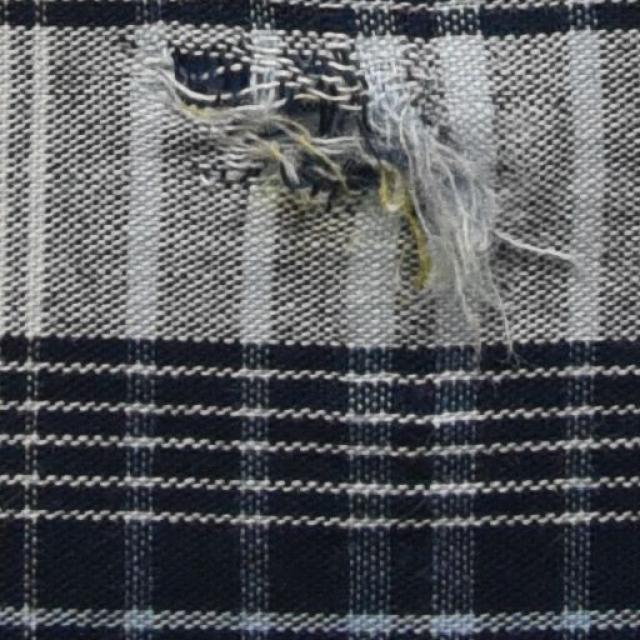Hole: (276, 93, 345, 137)
Snag: (358, 85, 571, 324), (173, 42, 362, 198)
Stain: (374, 168, 433, 291)
